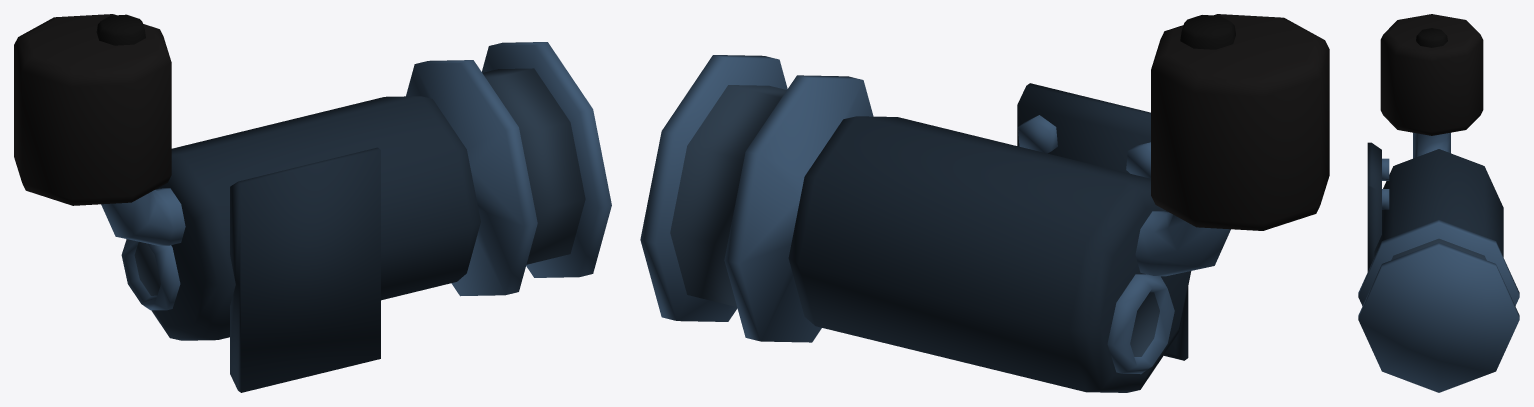
File: Engine5.fbx
3 views of the same model, side by side, from view 1: azimuth 30°, elevation 25°; view 2: azimuth 150°, elevation 25°; view 3: azimuth 270°, elevation 25° (orthographic). The views are drawn at different scales.
Visible parts, largest first — view 1: Engine5; view 2: Engine5; view 3: Engine5.
Boxes of the visible parts, x1,y1,x2,y2 form: Engine5: (14, 14, 611, 392); Engine5: (640, 14, 1329, 392); Engine5: (1358, 14, 1519, 392).
Size of the model in its own units: 0.6946 by 0.451 by 0.2909.
